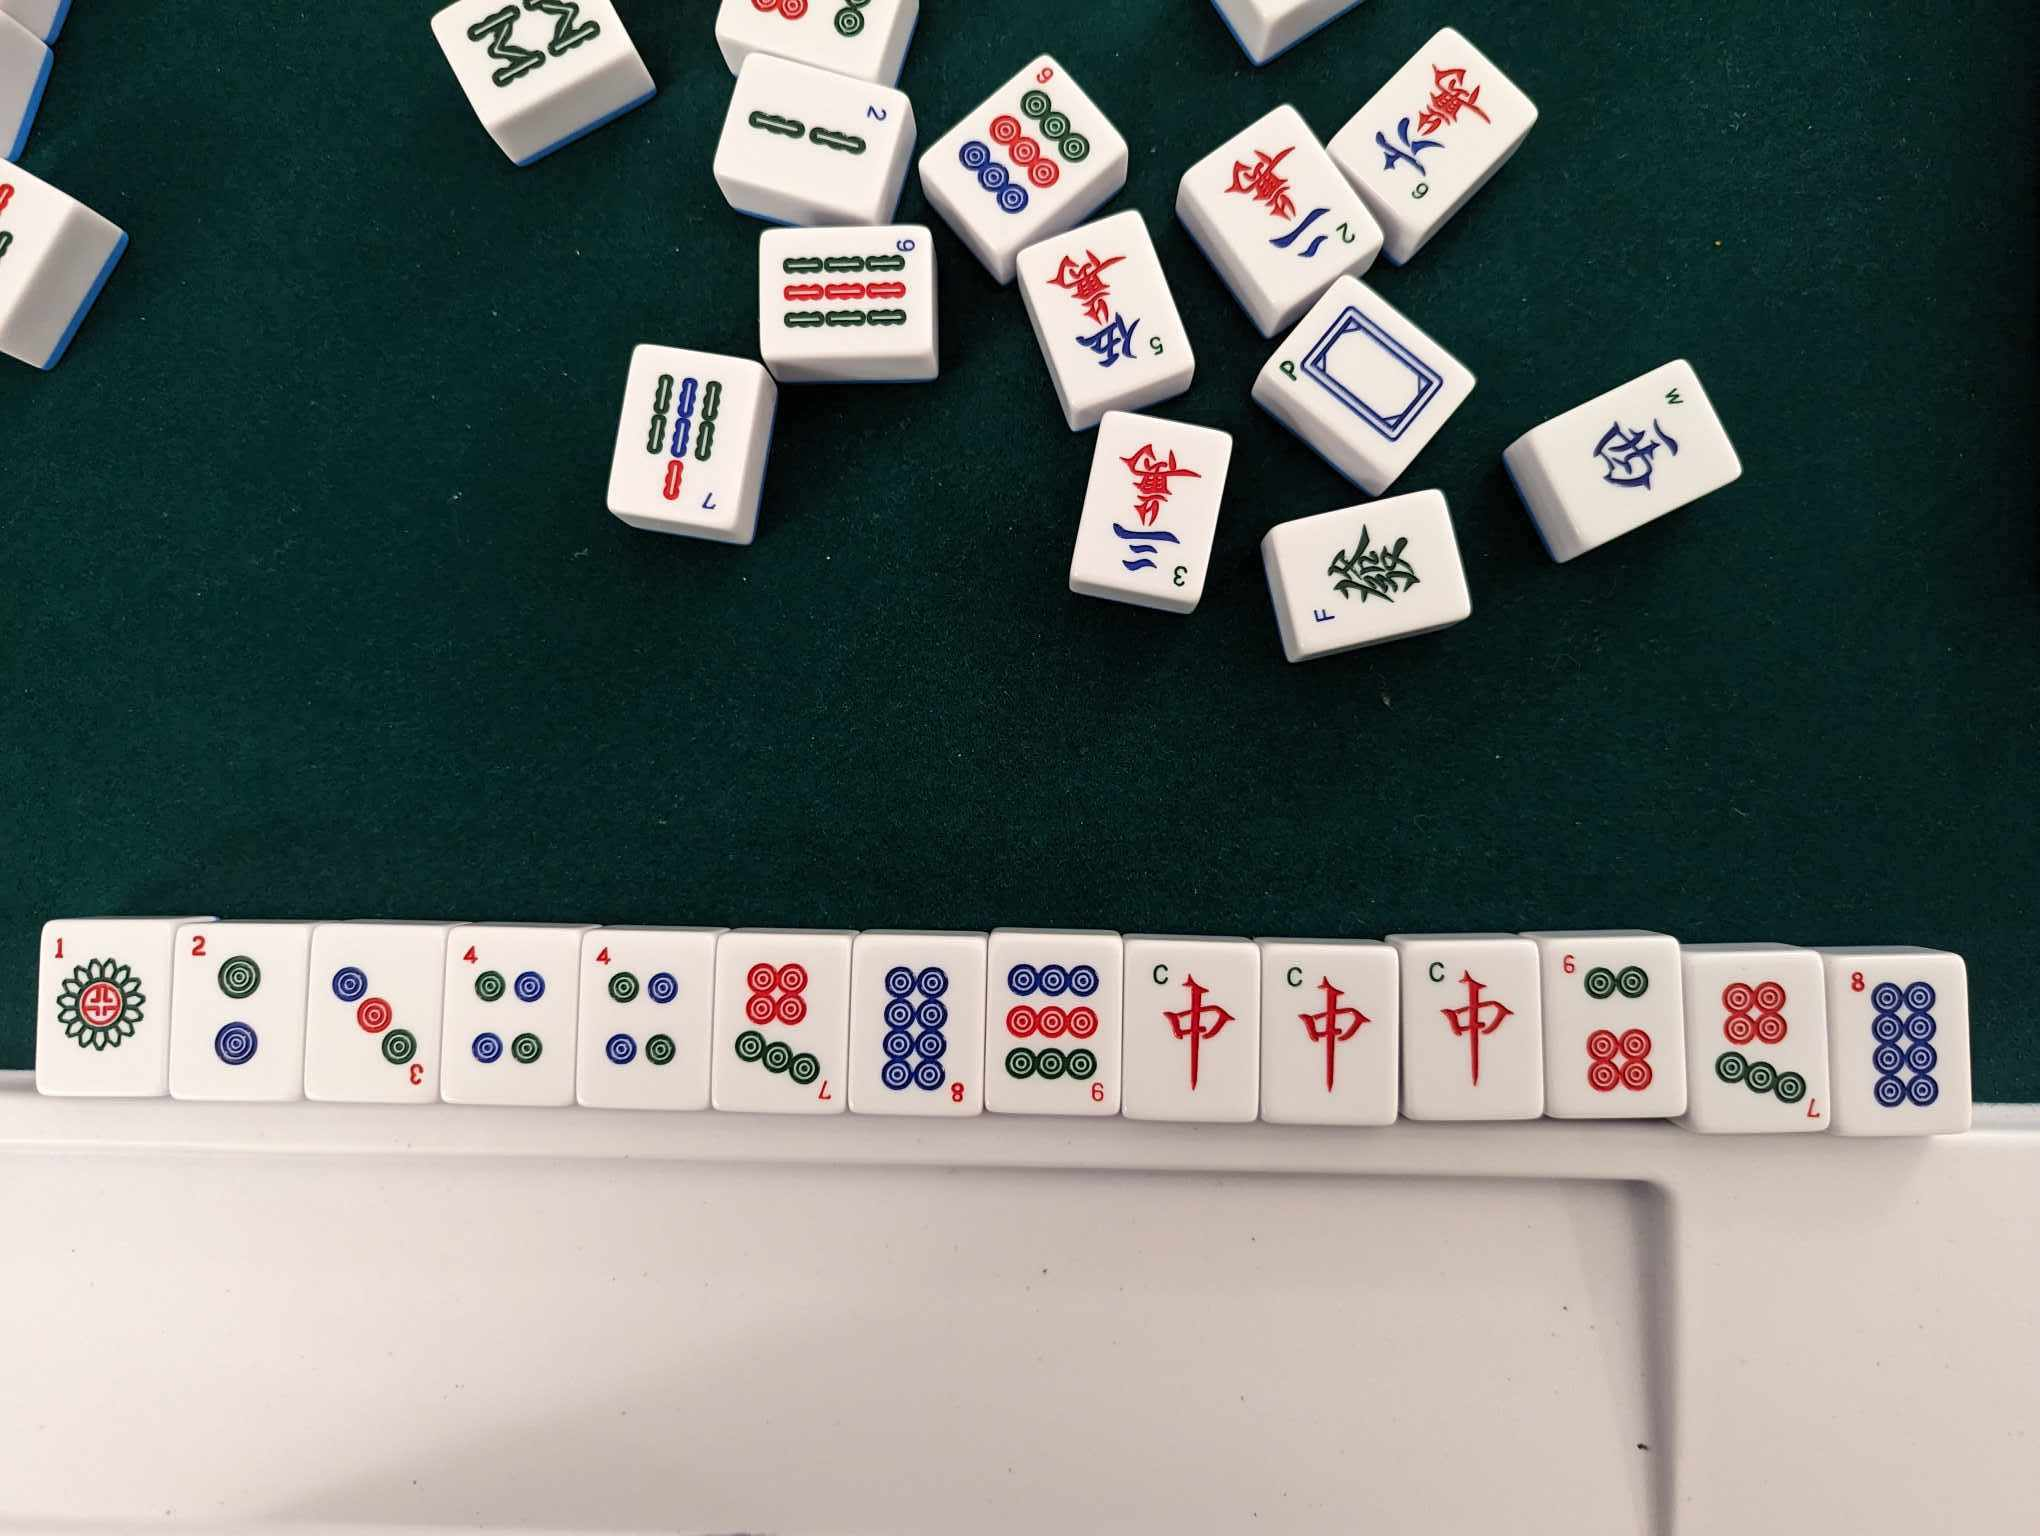circle-eight: (855, 941, 985, 1110), (1838, 960, 1961, 1128)
circle-four: (579, 934, 714, 1105), (445, 933, 577, 1099)
circle-nine: (989, 941, 1121, 1112)
circle-one: (45, 925, 161, 1096)
circle-seven: (1695, 958, 1827, 1128), (718, 936, 848, 1107)
circle-six: (1551, 941, 1679, 1113)
circle-three: (308, 933, 443, 1097)
circle-two: (171, 928, 306, 1097)
honor-red_dragon: (1406, 942, 1538, 1117), (1263, 949, 1397, 1120), (1126, 949, 1261, 1117)
